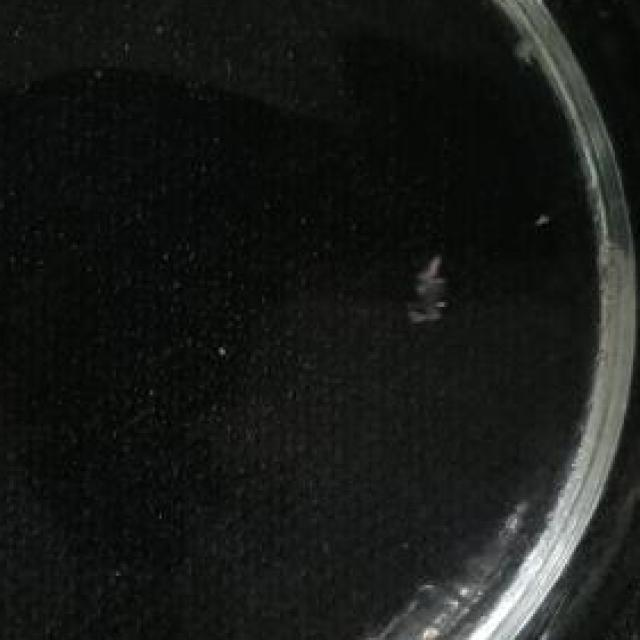Microplastic: (389, 245, 451, 340)
